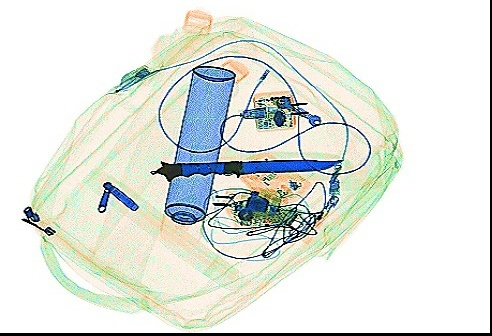knife: (147, 155, 345, 182)
lighter: (299, 193, 340, 243)
pressure: (157, 63, 237, 248)
